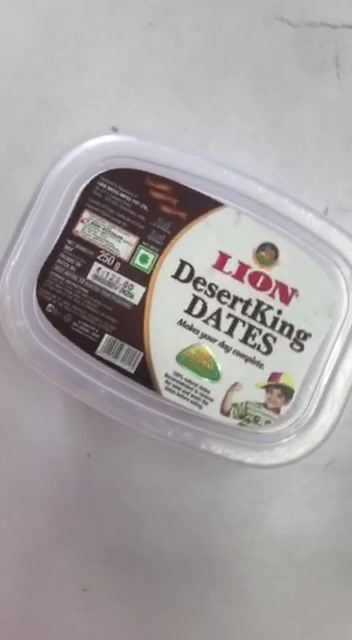Lion dates: (5, 134, 352, 468)
